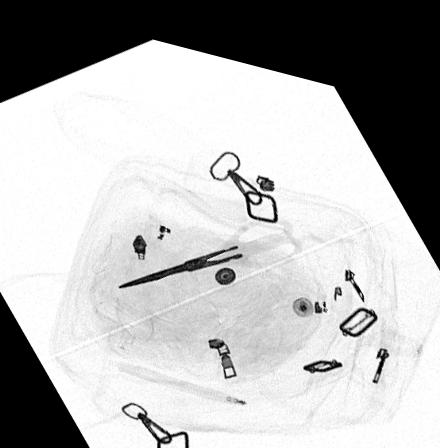Scissors: (115, 203, 302, 282)
